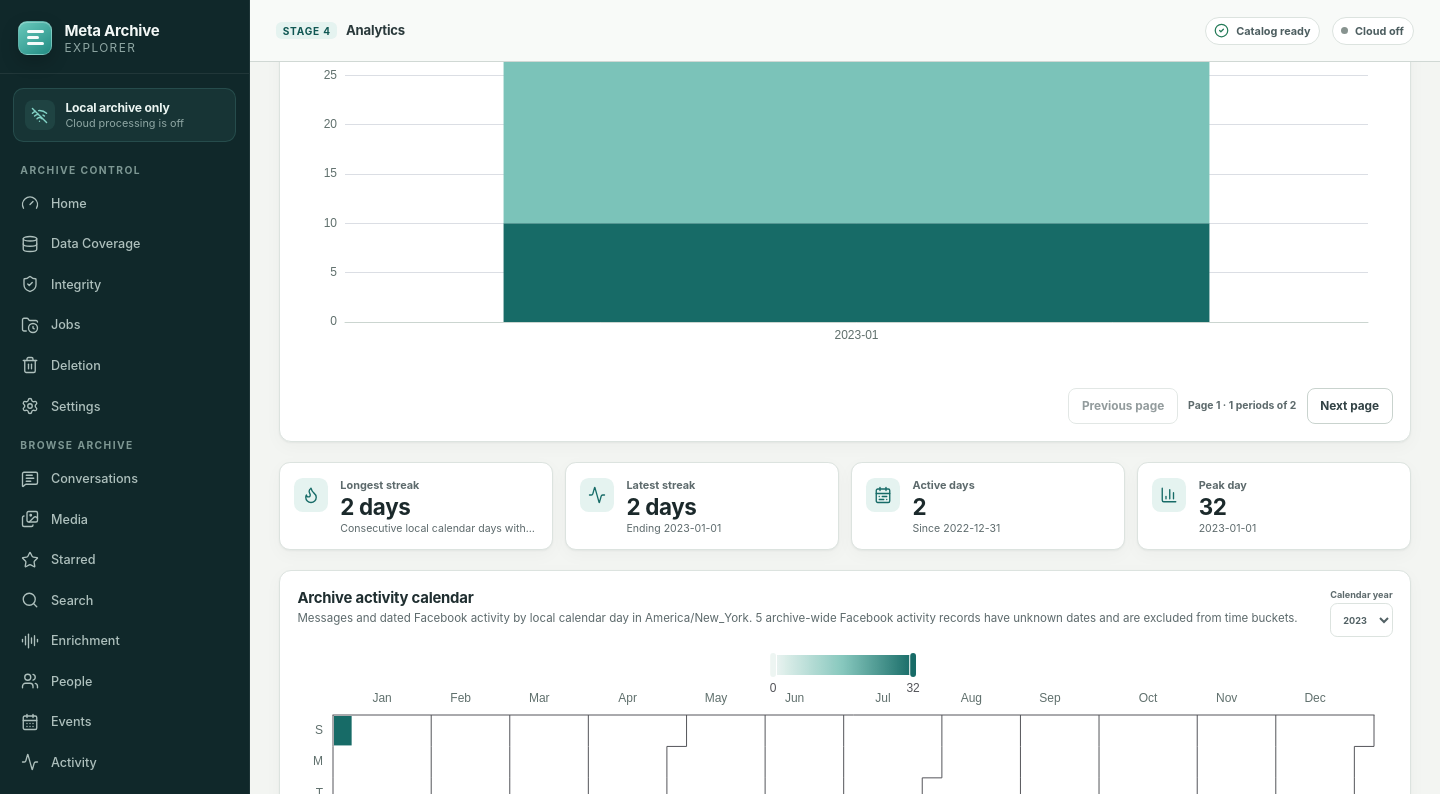
Test: Stage 4 archive views › navigates bounded analytics periods with the returned cursor
The image size is (1440, 794).
(page scrolled)
Expected: the text "Page 1 · 1 periods of 2" is shown, [1188,399,1296,412]
Click the button "Next page": (1350,406) [1307,388,1393,424]
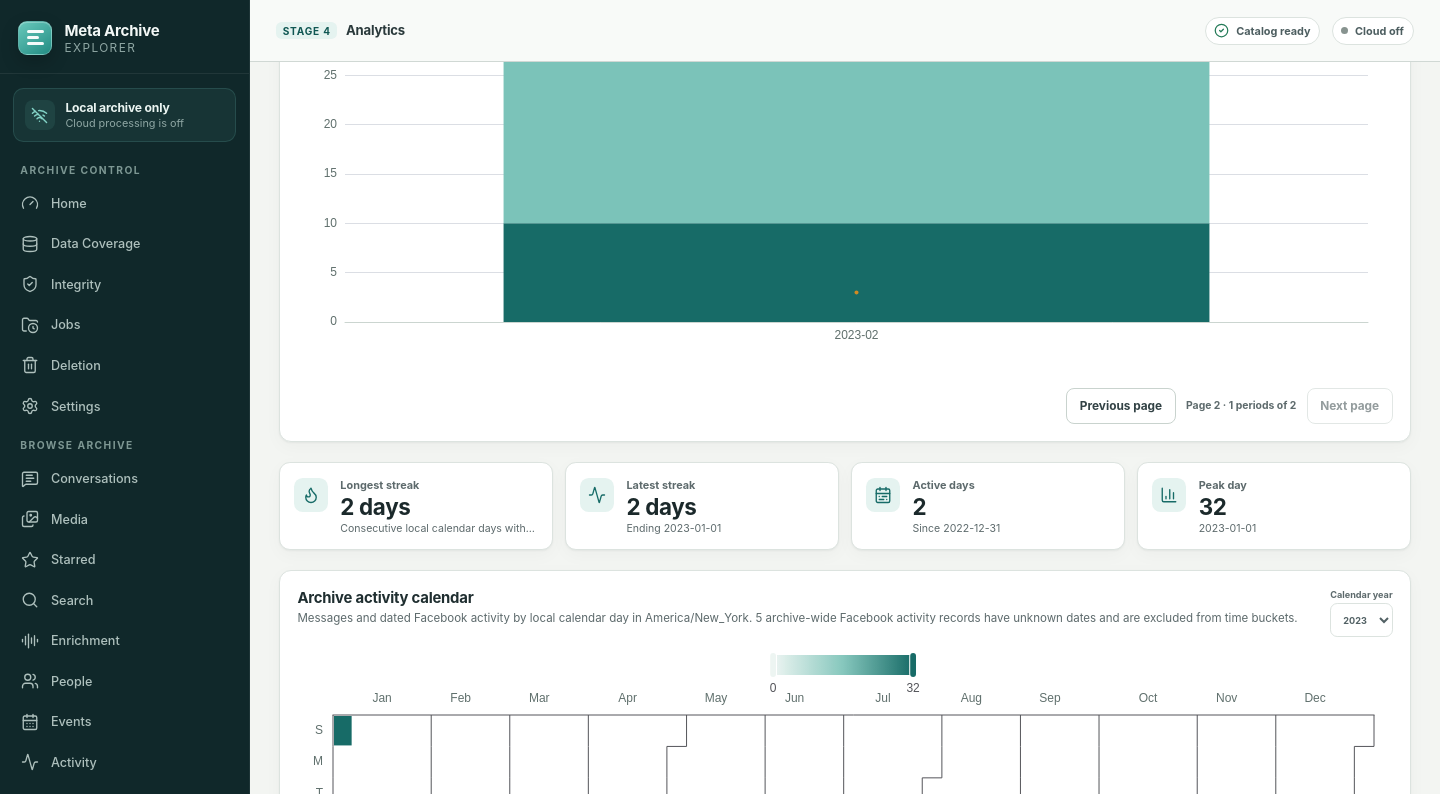
Expected: the text "Page 2 · 1 periods of 2" is shown, [1186,399,1296,412]
Click the button "Previous page": (1121,406) [1066,388,1176,424]
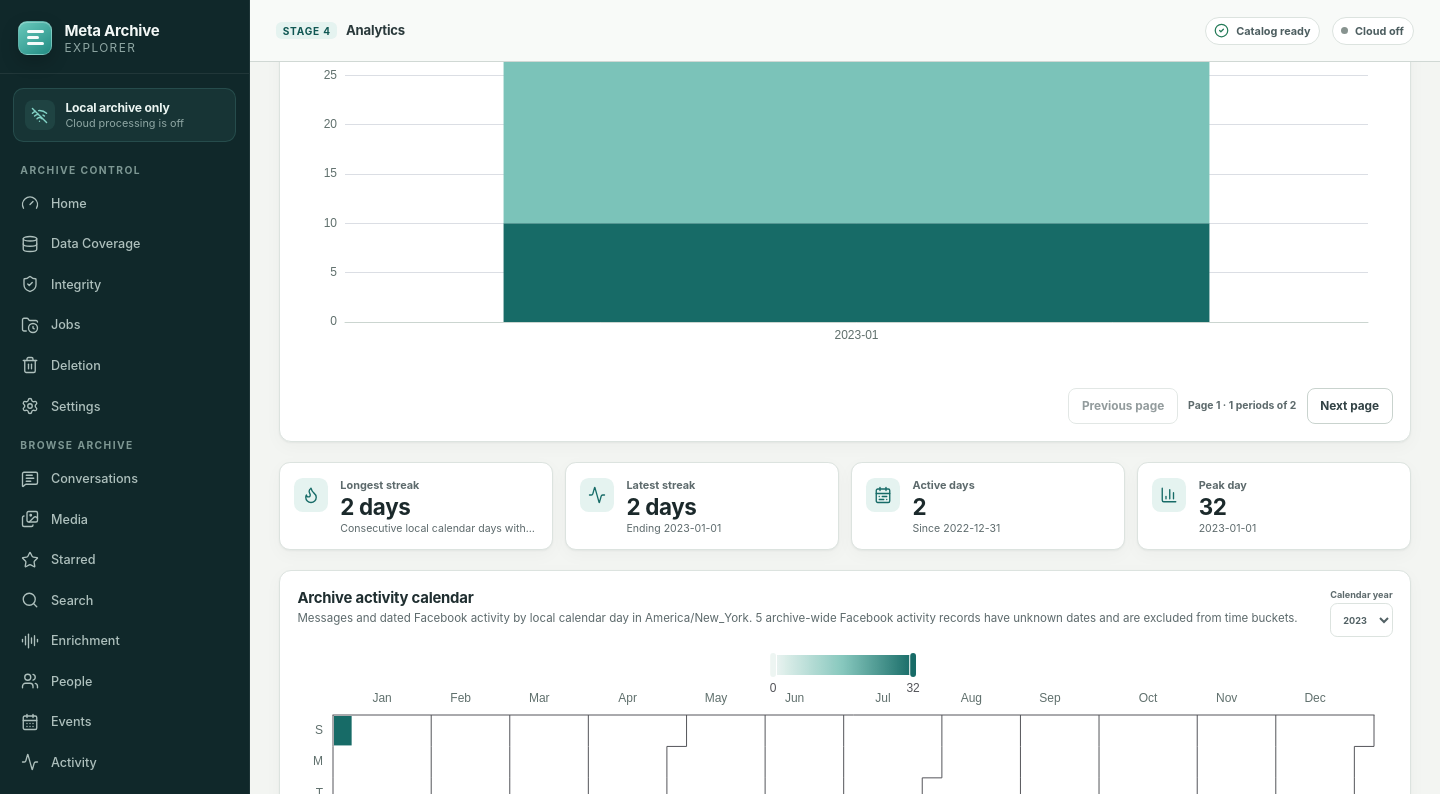
Expected: the text "Page 1 · 1 periods of 2" is shown, [1188,399,1296,412]
